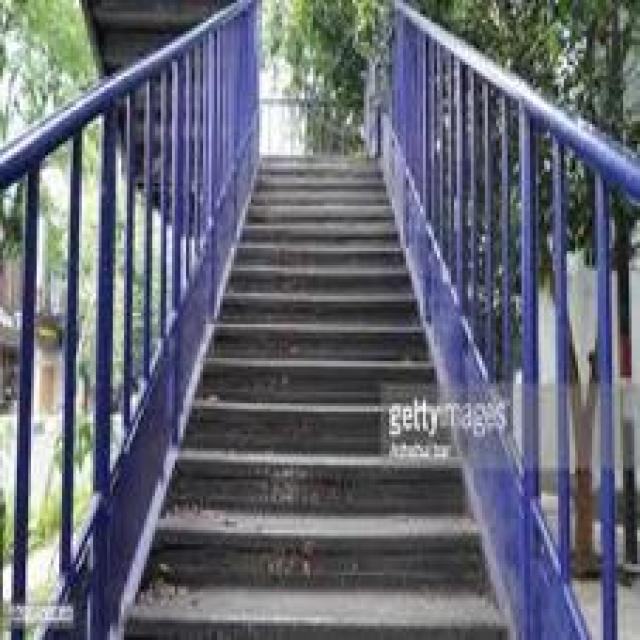upstair: (128, 401, 514, 627)
